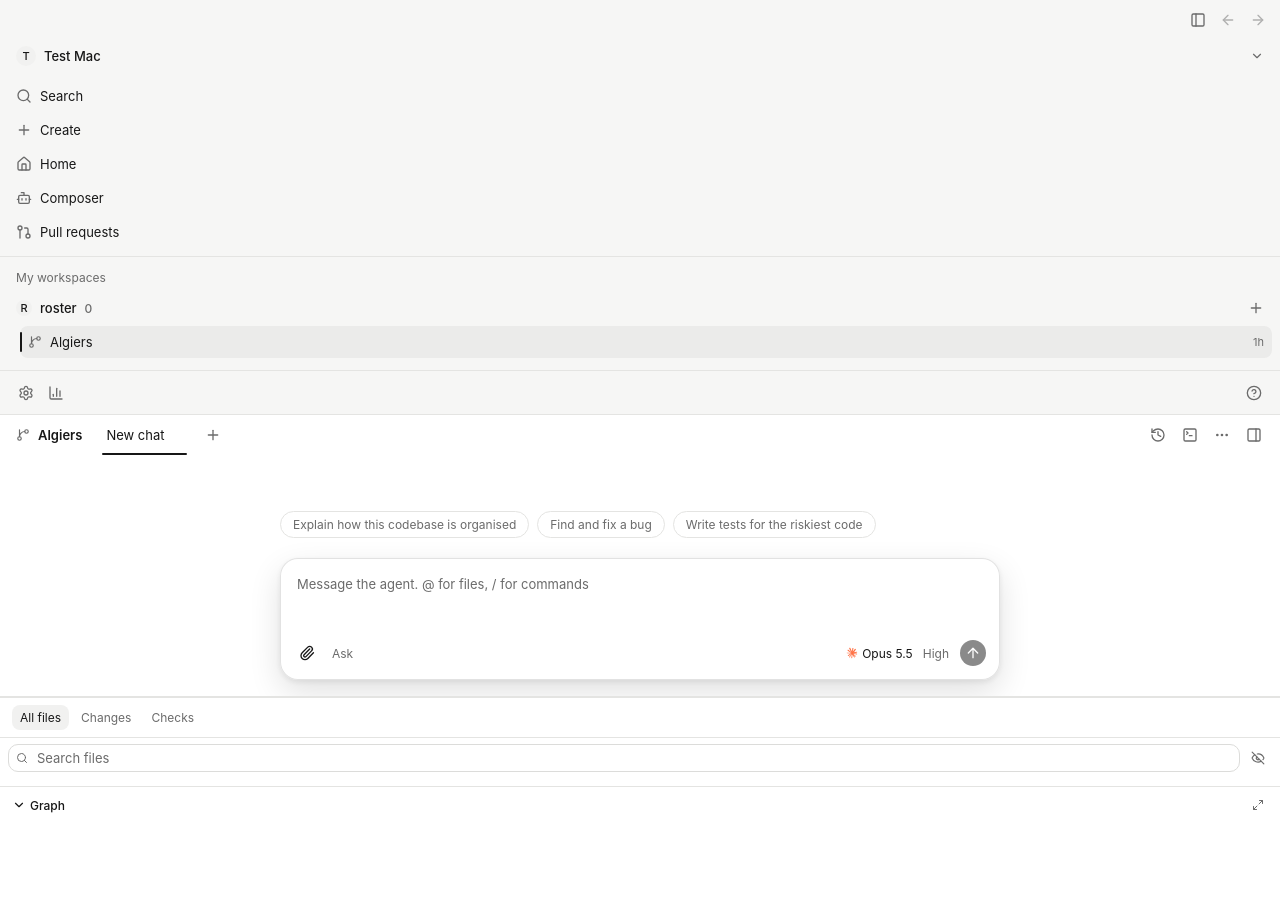
Test case: Workspace page › can cancel the commit prompt without archiving
Click the button named "Actions for Algiers" at (1222, 435), box [1208,421,1236,449]
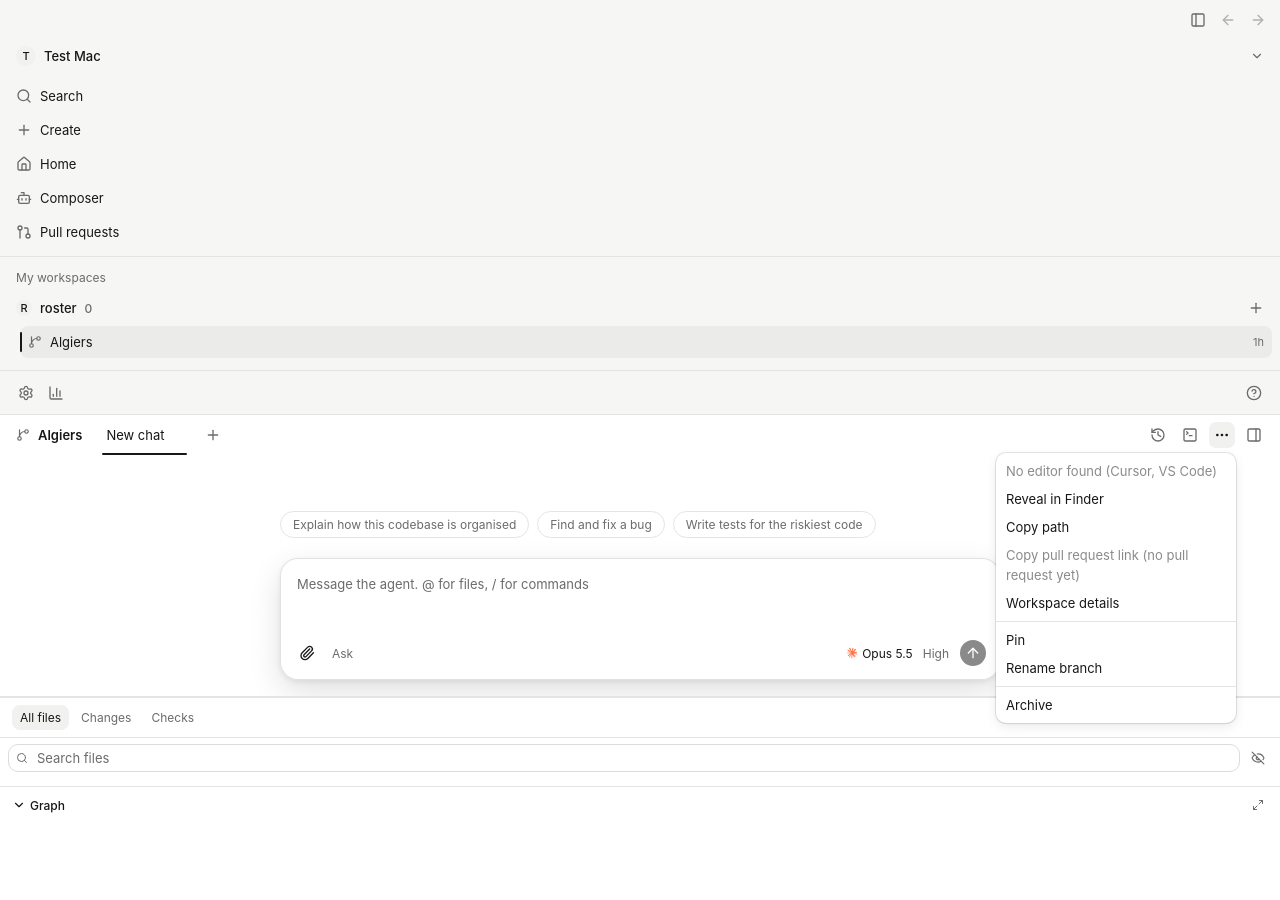
Click the menu item "Archive" at (1029, 705), box [1006,697,1052,713]
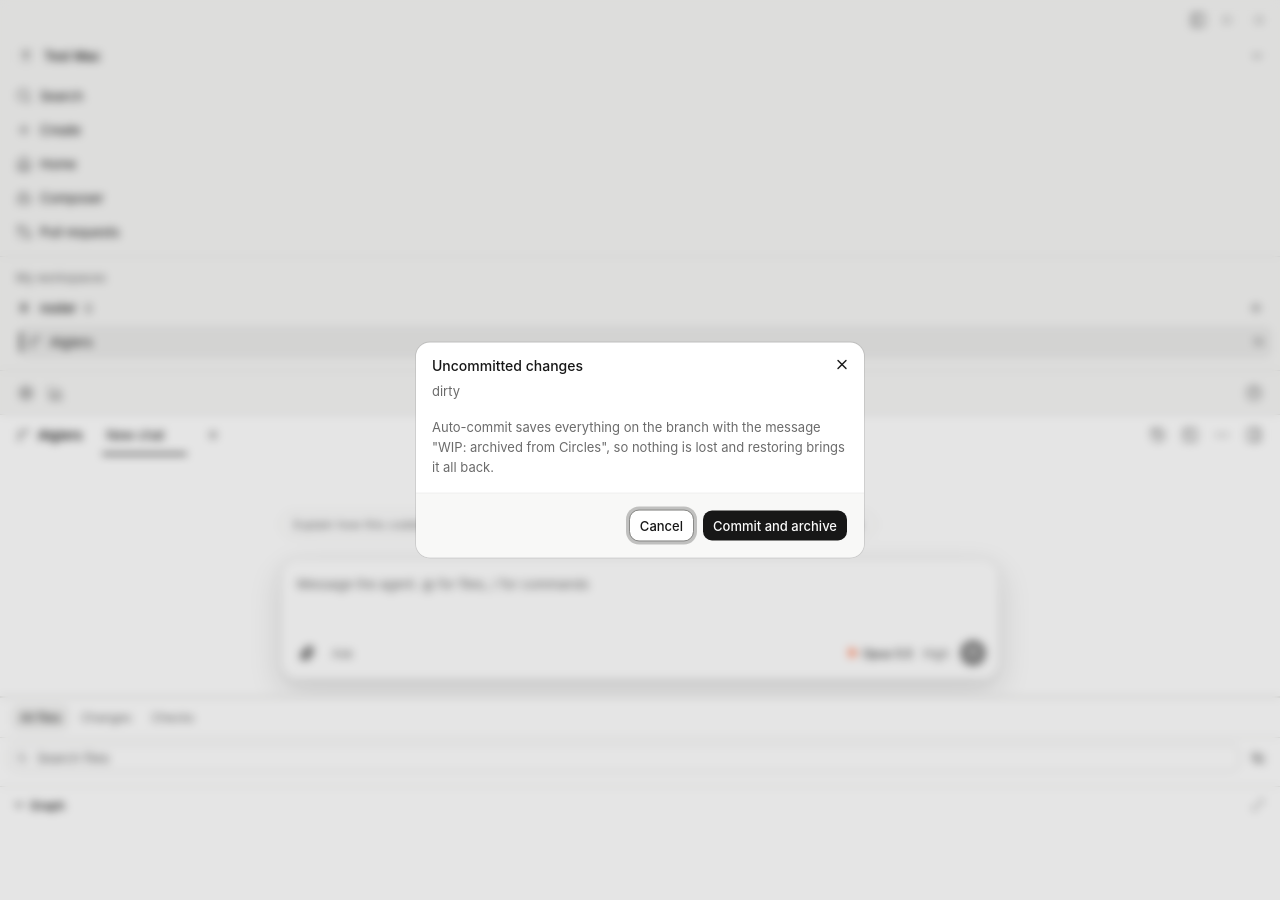
Click the button "Cancel" at (662, 526), box [629,510,694,542]
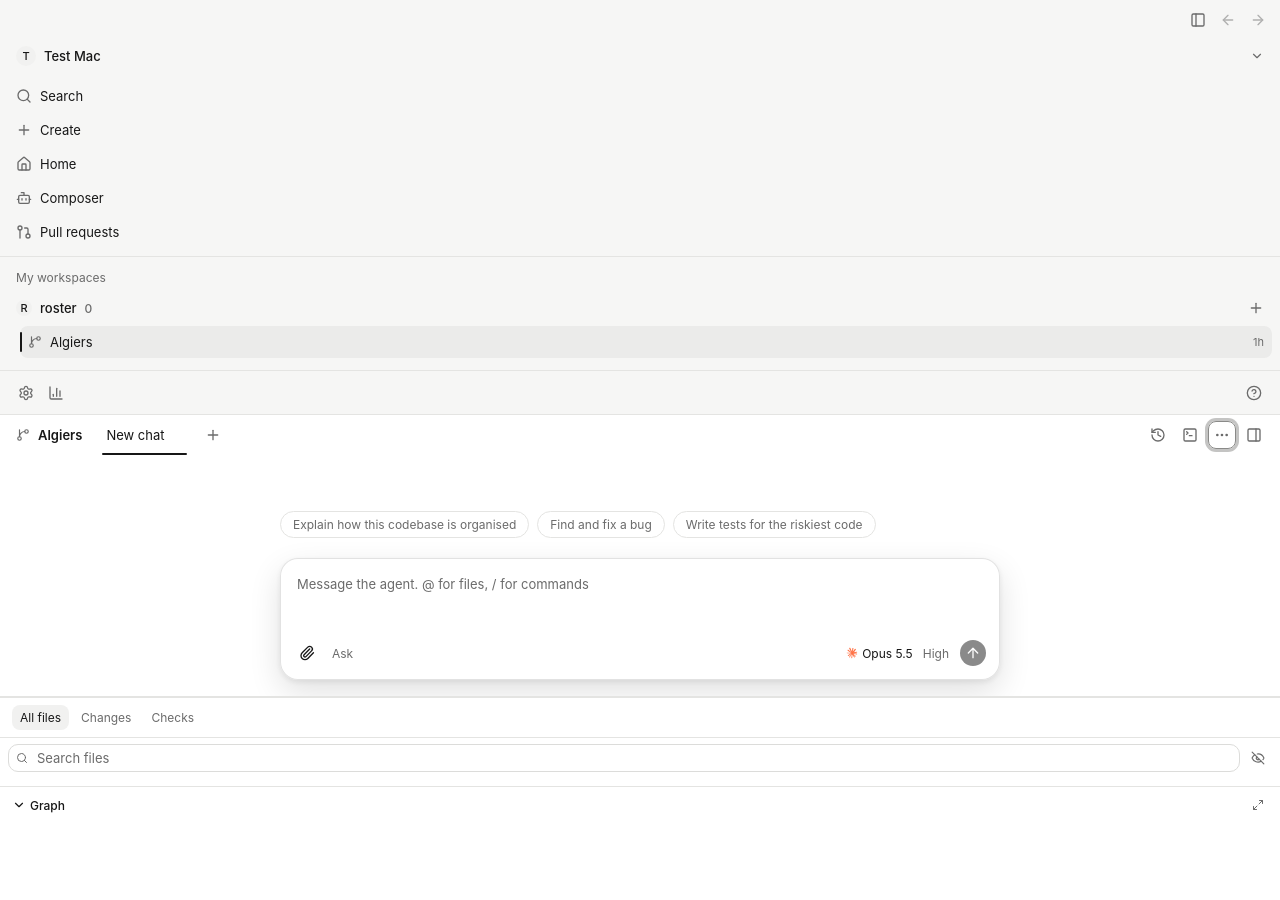
Expected: the dialog is gone
